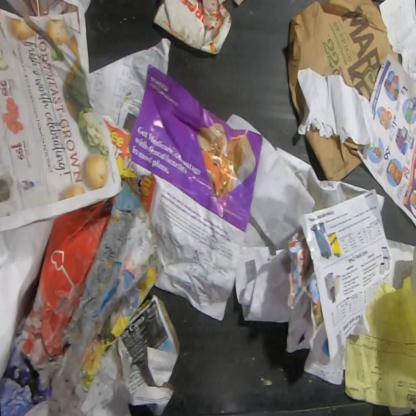cardboard: (286, 0, 402, 120), (153, 0, 231, 54), (304, 126, 364, 181)
